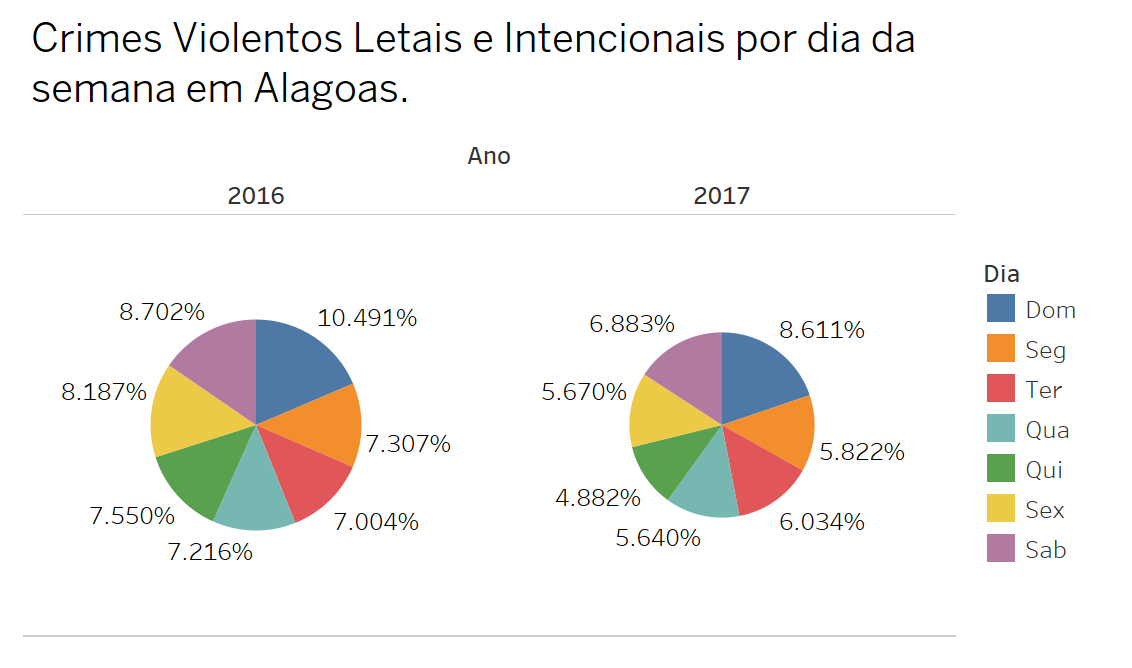

What the dashboard file says about the page in this screenshot:
{"tool":"tableau","page":{"name":"Dashboard 1","canvas":[1000,800],"ordinal":0},"visuals":[{"type":"worksheet","title":"diasemana/crime","mark":"Pie","cols":["ano"],"box":[33,33,475,327]},{"type":"legend","title":"diasemana/crime","param":"[federated.0wjzpbk1ffjxda145s7q41n5qxvy].[none:dianomeabr:nk]","box":[512,159,140,179]}]}

Visuals, with their boxes on the page's 1000x800 design canvas (x1, y1, x2, y2). These are canvas units, not pixel positions in the 1132x668 screenshot, which may show the page scaled, cropped or inside an application window:
"diasemana/crime" worksheet (Pie marks): bbox=[33, 33, 508, 360]
"diasemana/crime" legend: bbox=[512, 159, 652, 338]
